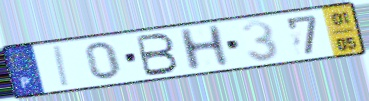0: (83, 40, 125, 82)
3: (241, 18, 279, 65)
7: (283, 13, 319, 57)
B: (134, 32, 181, 79)
H: (176, 23, 233, 74)
I: (53, 43, 73, 89)
